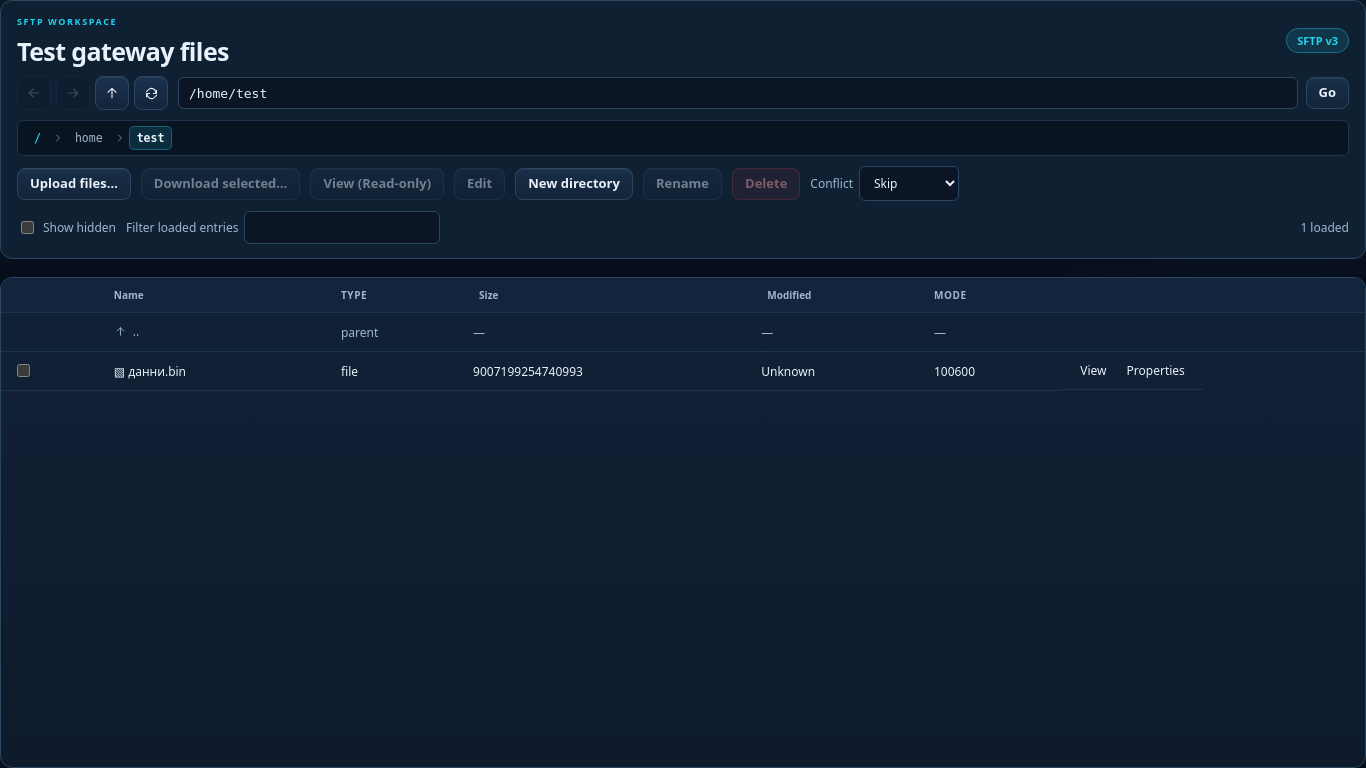
it: Files workspace boundaries › provides accessible navigation tooltips, keyboard shortcuts, and a non-selectable parent (..) row
Later steps or results of the test are not shown.
Expected: the button named "Back" is disabled, left=17, top=76, right=51, bottom=110
Expected: the button named "Forward" is disabled, left=56, top=76, right=90, bottom=110
Note: Alt+Up inside Remote path input must NOT trigger navigation.
Press ArrowUp in the field named "Remote path", box left=178, top=77, right=1298, bottom=109
Click the button named "Parent directory (..)". click: (126, 332)
box: left=108, top=322, right=145, bottom=341
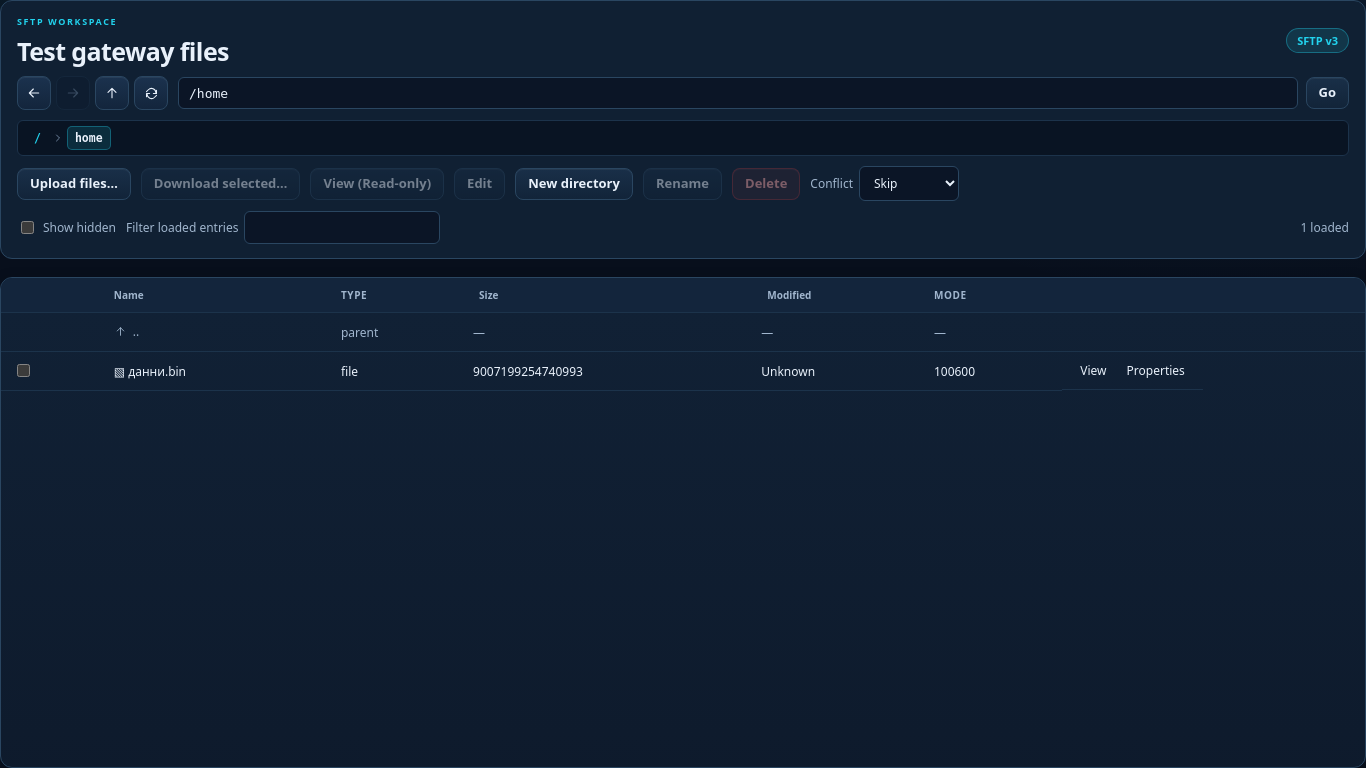
Expected: the field showing "/home" is shown, left=178, top=77, right=1298, bottom=109
Result: the button named "Back" is enabled at left=17, top=76, right=51, bottom=110
Press ArrowUp in the element named "Files on Test gateway"
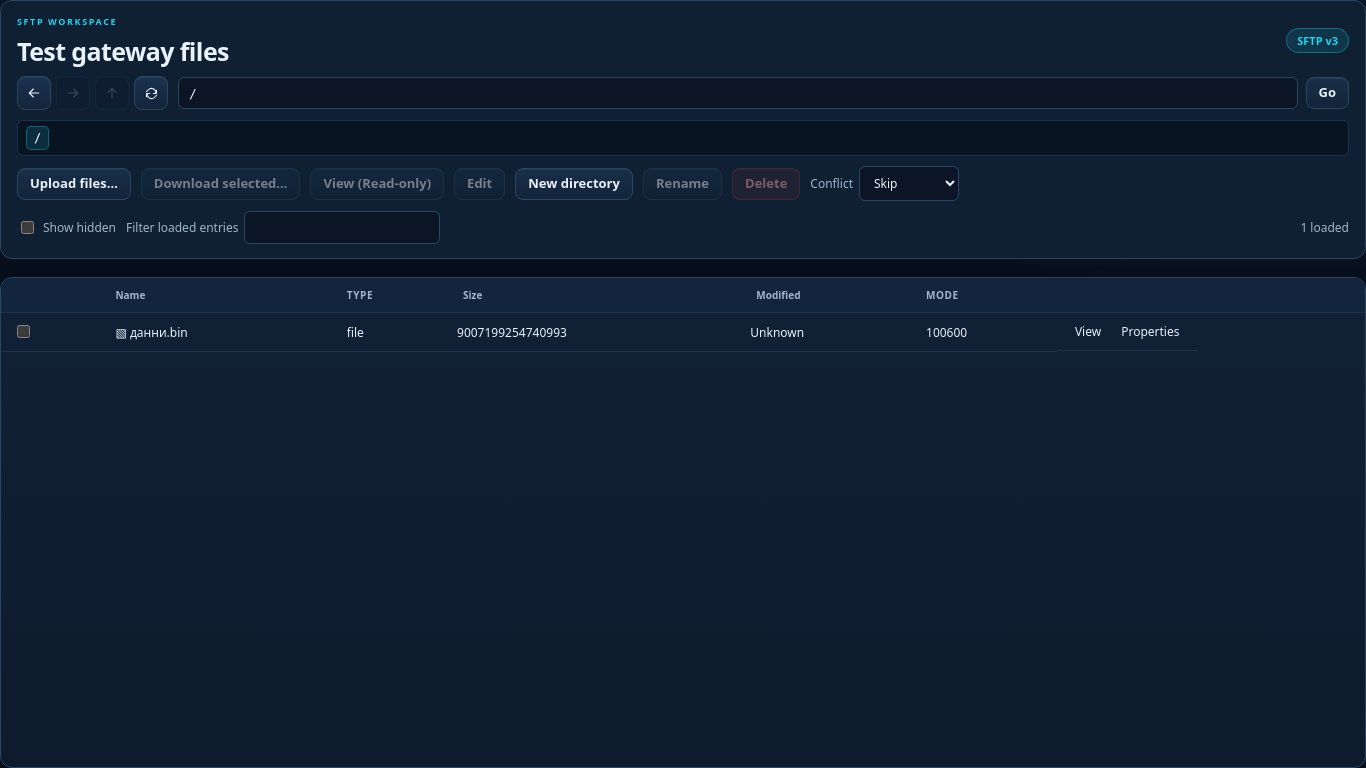
Expected: the field showing "/" is shown, left=178, top=77, right=1298, bottom=109
Result: the button named "Parent directory" is disabled at left=95, top=76, right=129, bottom=110
Note: Alt+Left and Alt+Right traverse folder history cleanly.
Press ArrowLeft in the element named "Files on Test gateway"
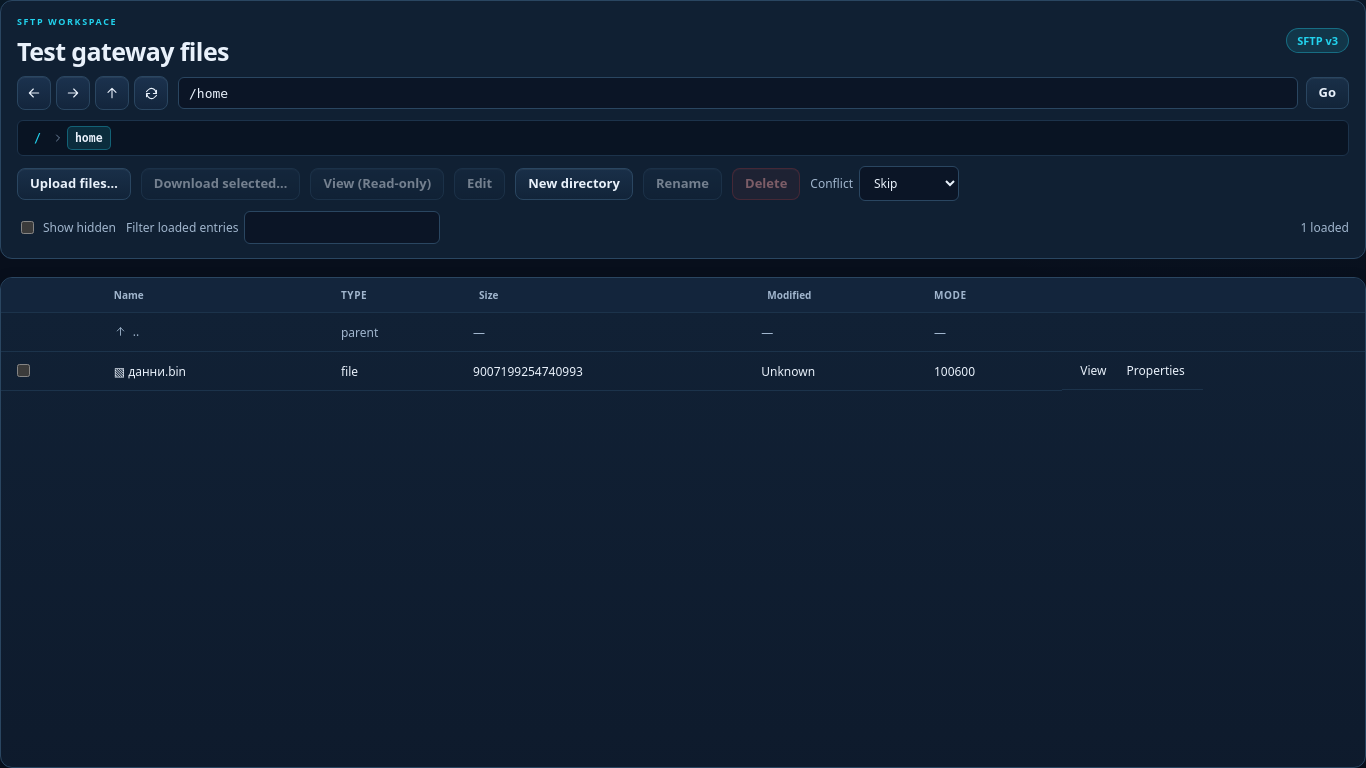
Result: the field showing "/home" is shown at left=178, top=77, right=1298, bottom=109
